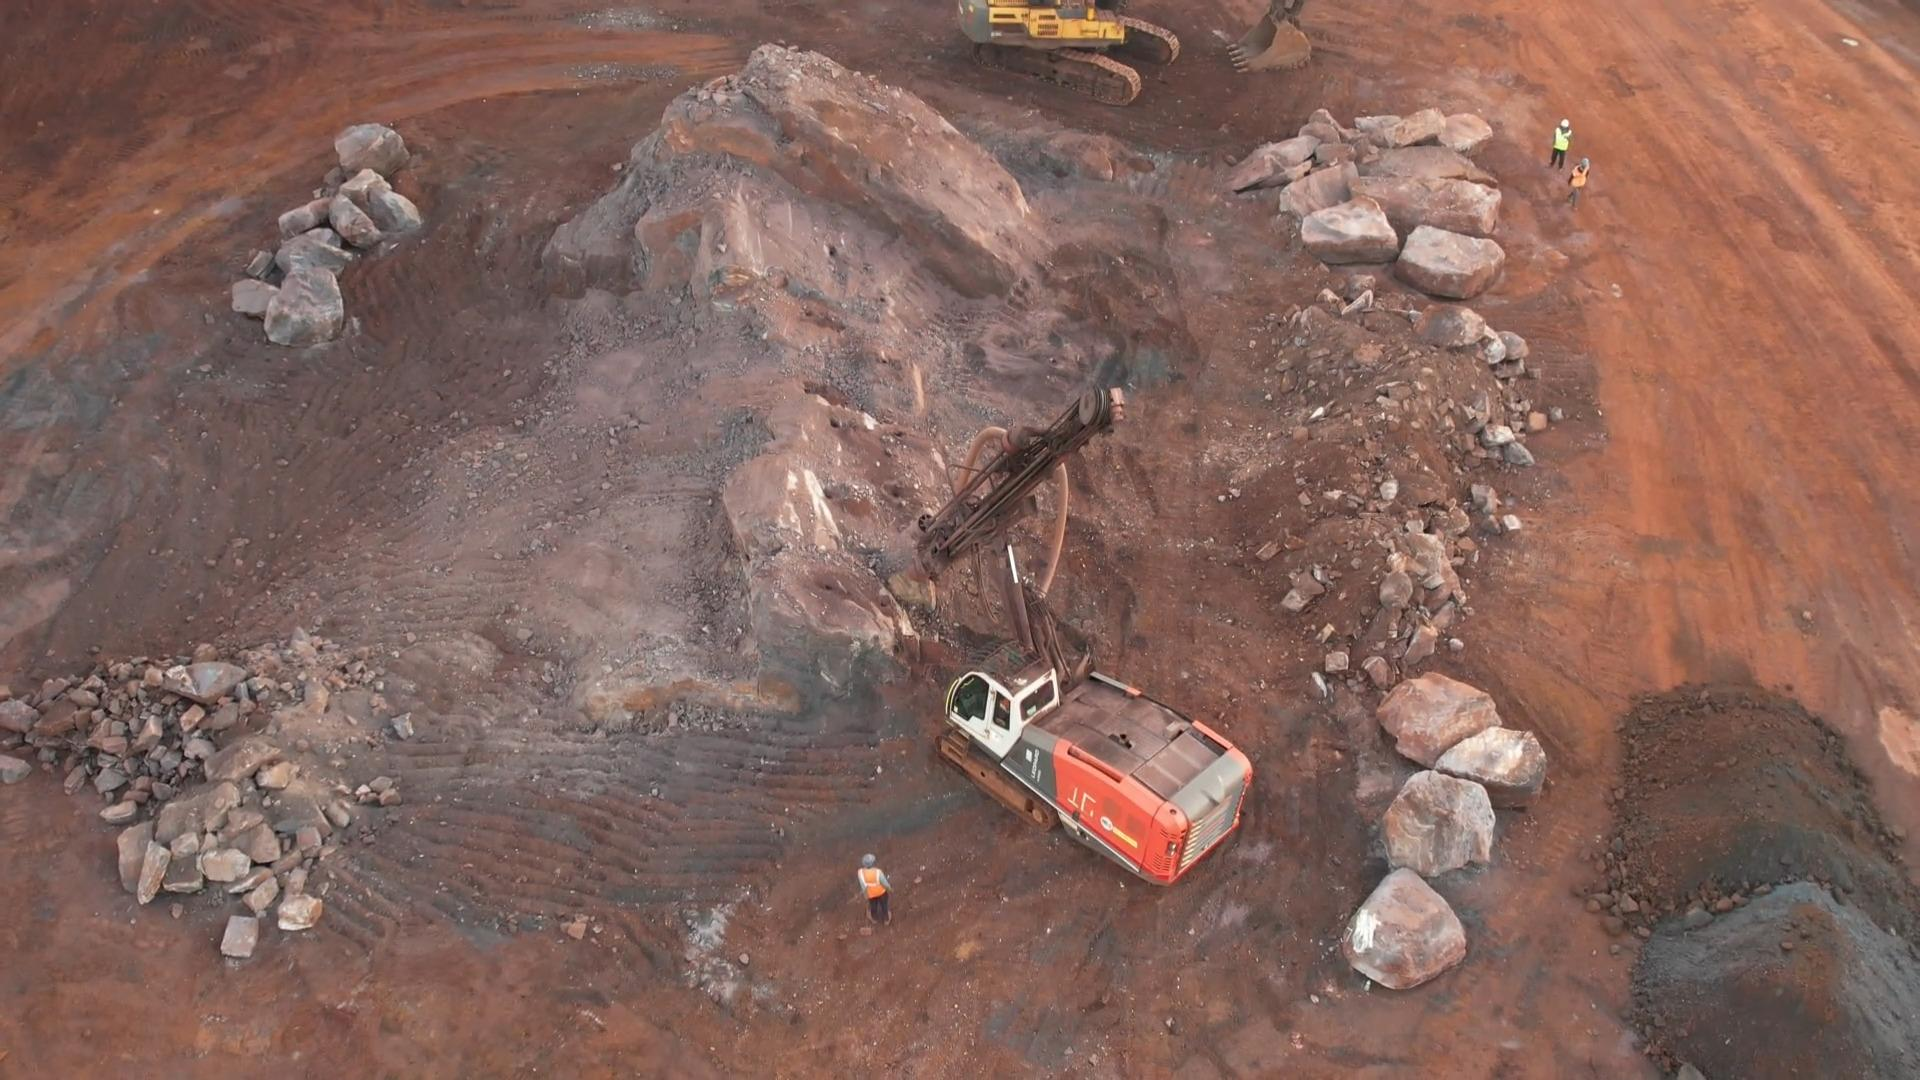excavator: (958, 0, 1316, 106)
